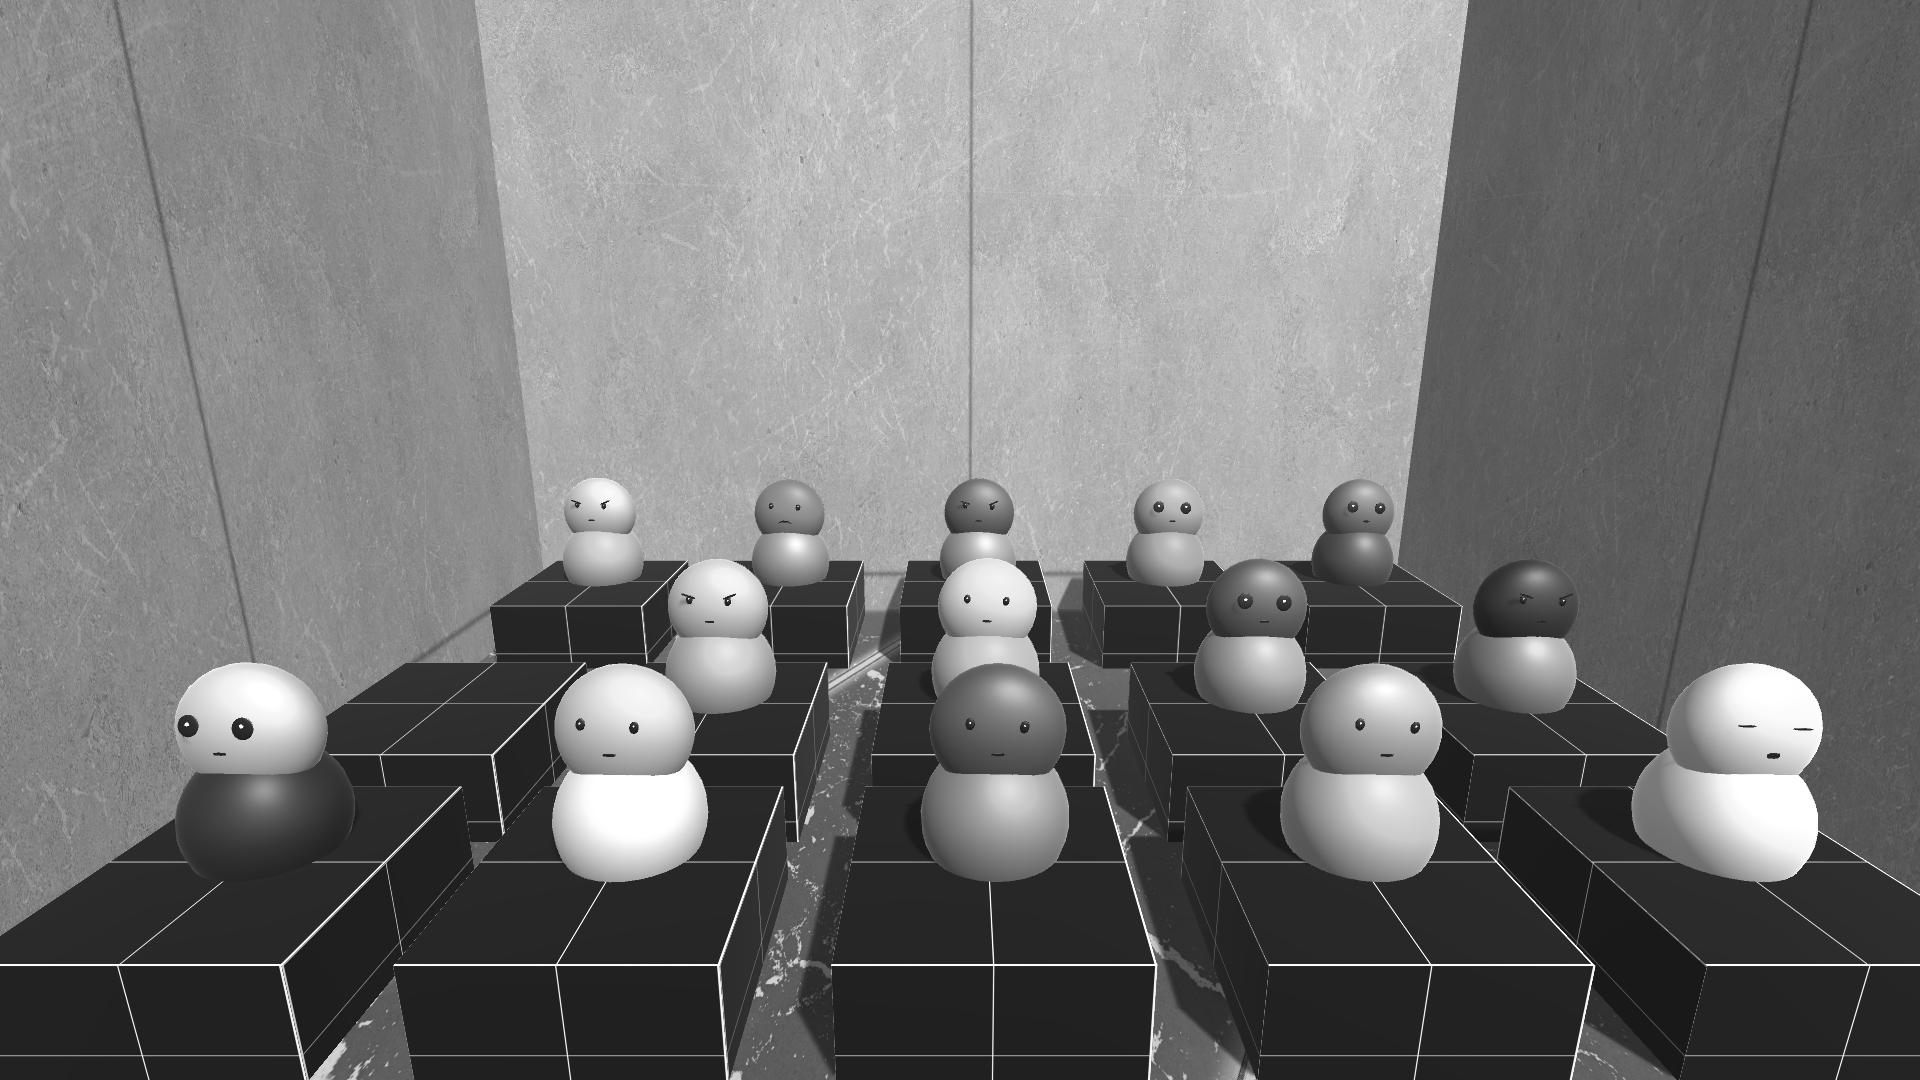blob_atento: (161, 657, 334, 781), (1193, 560, 1311, 641), (1129, 473, 1203, 541), (1317, 473, 1391, 541)
blob_dormindo: (1669, 653, 1829, 787)
blob_normal: (547, 657, 699, 786), (1299, 659, 1443, 789), (920, 657, 1060, 783), (934, 556, 1040, 646)
blob_raiva: (659, 546, 767, 644), (1461, 553, 1581, 640), (939, 471, 1013, 541), (553, 473, 634, 535)
blob_triste: (752, 477, 823, 534)
